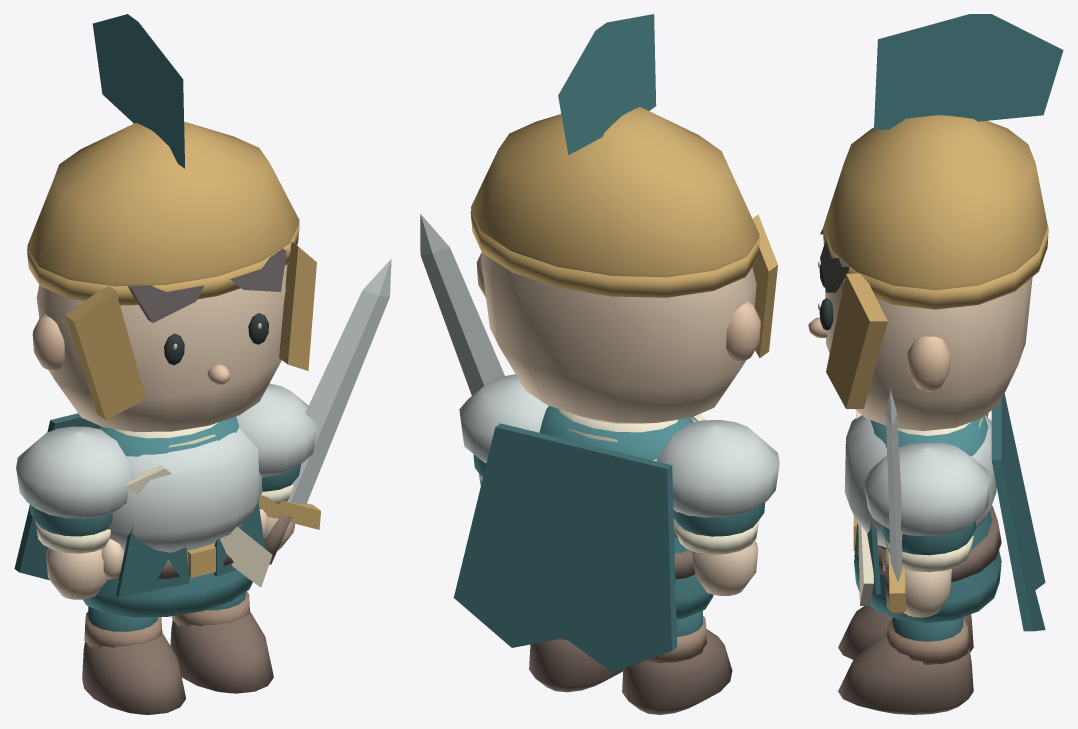
File: knight.glb
3 views of the same model, side by side, from view 1: azimuth 30°, elevation 25°; view 2: azimuth 150°, elevation 25°; view 3: azimuth 270°, elevation 25° (orthographic). The views are drawn at different scales.
Parts seen in each view (by area): view 1: Regional helmet, Soft cheek head, Rounded breastplate, Big shoulder armour, Greek crest, Shaped bevel sword, Short folded tunic, Round leather boot, Corinthian cheek, Round leather boot.001, Big shoulder armour.001, Corinthian cheek.001 (+19 smaller); view 2: Short scalloped cape, Regional helmet, Soft cheek head, Big shoulder armour, Greek crest, Helmet brow band, Shaped bevel sword, Round leather boot, Short folded tunic, Big shoulder armour.001, Round leather boot.001, Little mitten (+6 smaller); view 3: Regional helmet, Greek crest, Soft cheek head, Big shoulder armour.001, Round leather boot.001, Short scalloped cape, Corinthian cheek.001, Short folded tunic, Rounded breastplate, Helmet brow band, Shaped bevel sword, Ear.001 (+11 smaller).
Boxes of the visible parts, x1,y1,x2,y2 form: Regional helmet: [27, 121, 299, 286]; Soft cheek head: [36, 264, 287, 431]; Rounded breastplate: [107, 427, 262, 552]; Big shoulder armour: [16, 426, 131, 518]; Greek crest: [92, 14, 184, 168]; Shaped bevel sword: [287, 259, 391, 504]; Short folded tunic: [82, 416, 252, 617]; Round leather boot: [82, 632, 185, 714]; Corinthian cheek: [65, 286, 145, 420]; Round leather boot.001: [170, 611, 273, 693]; Big shoulder armour.001: [236, 383, 317, 477]; Corinthian cheek.001: [279, 242, 316, 370]; Short scalloped cape: [453, 423, 676, 672]; Regional helmet: [471, 107, 759, 277]; Soft cheek head: [481, 253, 756, 423]; Big shoulder armour: [657, 420, 779, 517]; Greek crest: [558, 14, 656, 154]; Helmet brow band: [470, 210, 759, 297]; Shaped bevel sword: [420, 214, 504, 395]; Round leather boot: [622, 629, 732, 714]; Short folded tunic: [539, 405, 713, 619]; Big shoulder armour.001: [459, 374, 548, 463]; Round leather boot.001: [529, 639, 623, 692]; Little mitten: [692, 541, 758, 595]; Regional helmet: [824, 115, 1047, 290]; Greek crest: [874, 14, 1063, 129]; Soft cheek head: [825, 277, 1032, 430]; Big shoulder armour.001: [863, 442, 990, 536]; Round leather boot.001: [838, 634, 973, 714]; Short scalloped cape: [991, 394, 1045, 631]; Corinthian cheek.001: [826, 273, 887, 408]; Short folded tunic: [854, 416, 1001, 623]; Rounded breastplate: [844, 415, 996, 547]; Helmet brow band: [823, 225, 1048, 309]; Shaped bevel sword: [886, 389, 902, 581]; Ear.001: [907, 336, 950, 391].
Bounding box in the file's own units: 1.04 × 1.83 × 0.639.
